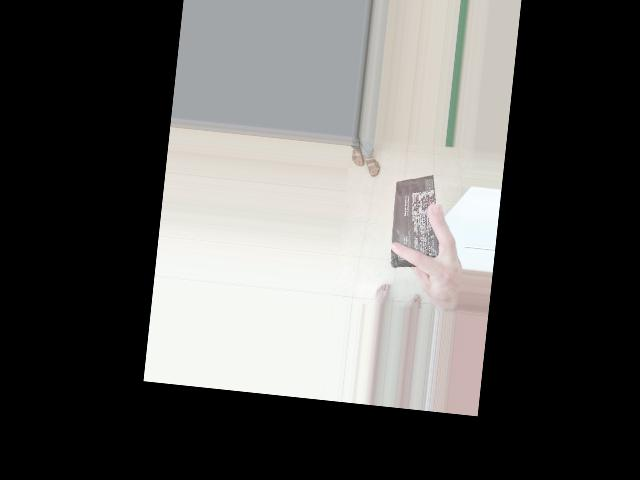chocolate: (385, 166, 455, 281)
